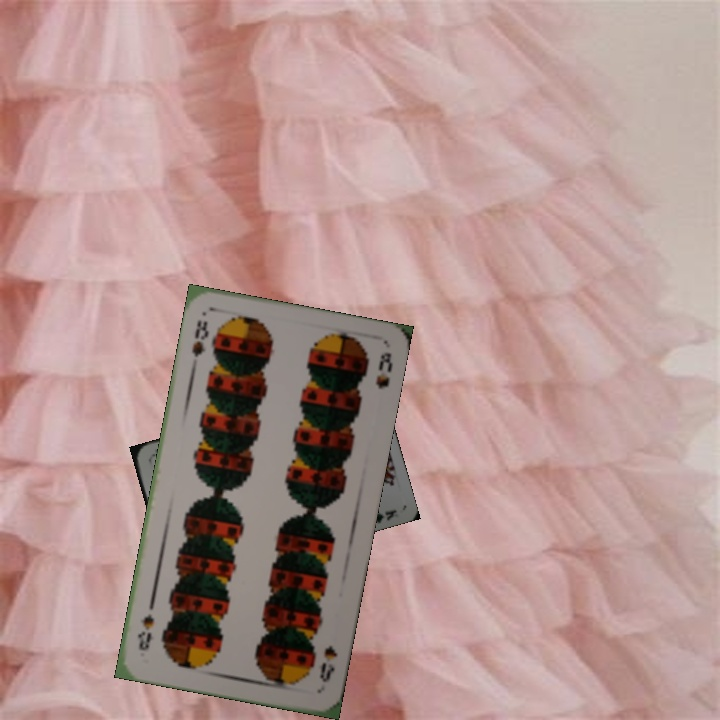S8: (315, 641, 340, 685), (187, 315, 211, 360)
